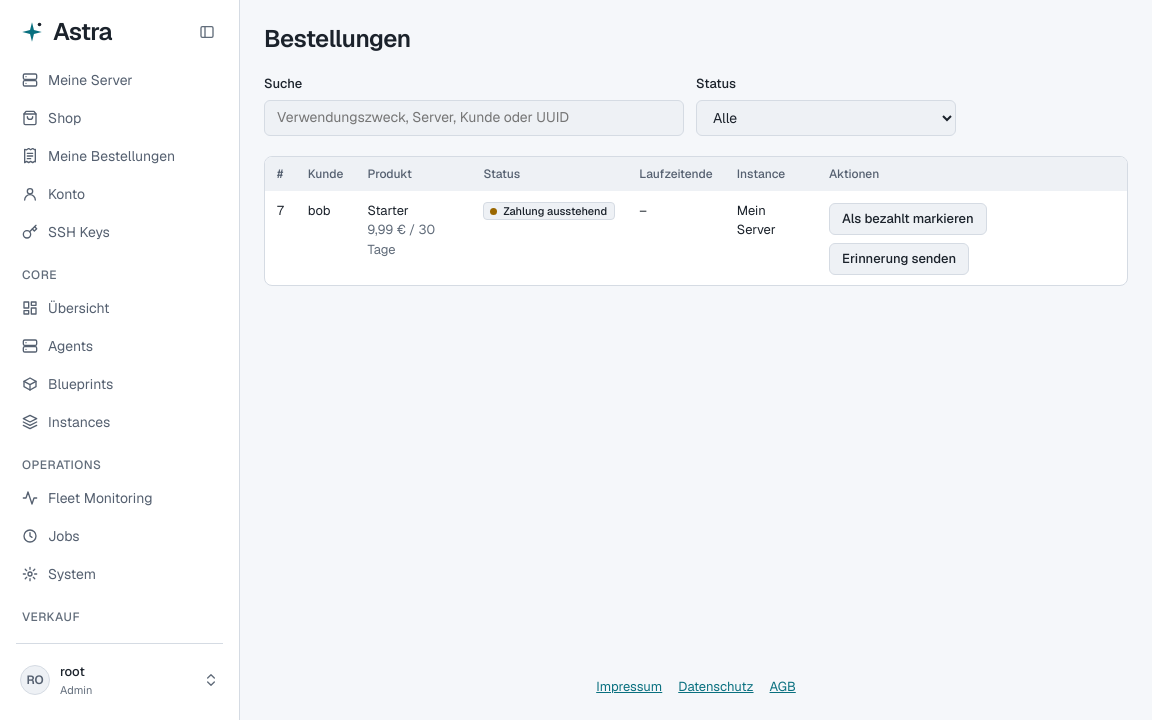
Scenario: AdminOrdersPage › warnt, wenn nach der Zahlung weiter kein Platz frei ist
Click the button "Als bezahlt markieren": point(908, 218) top-left (829, 202), bottom-right (987, 234)
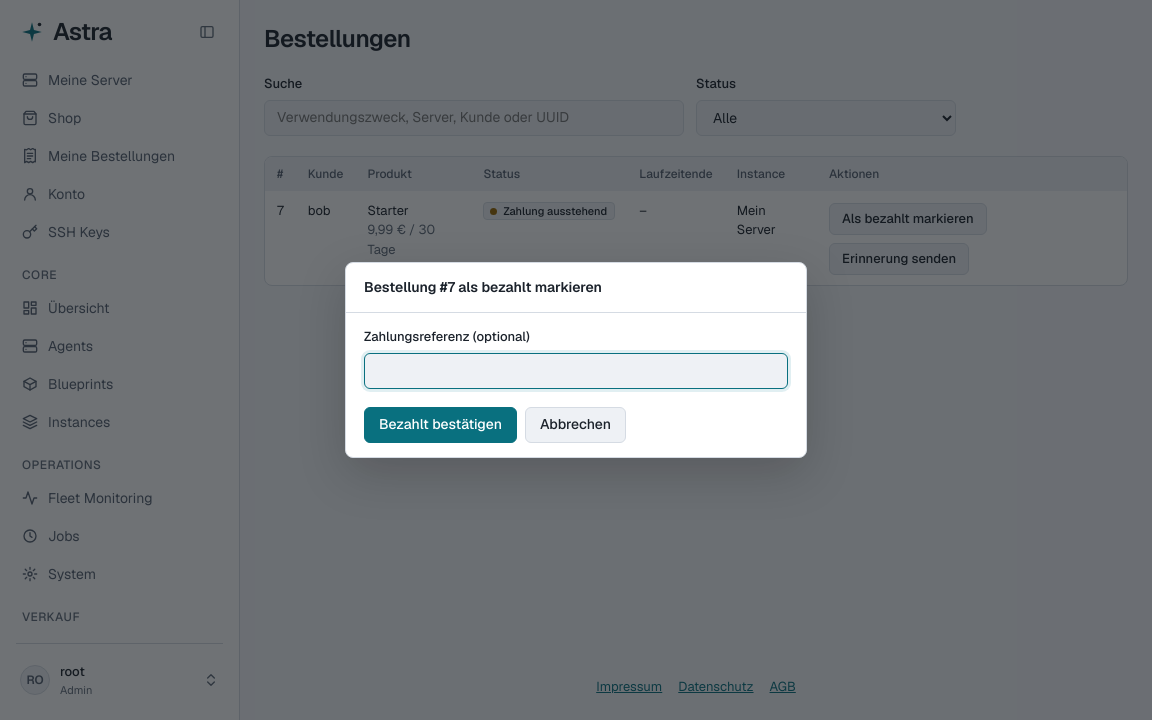
Click the button "Bezahlt bestätigen": point(440, 425) top-left (364, 407), bottom-right (517, 443)
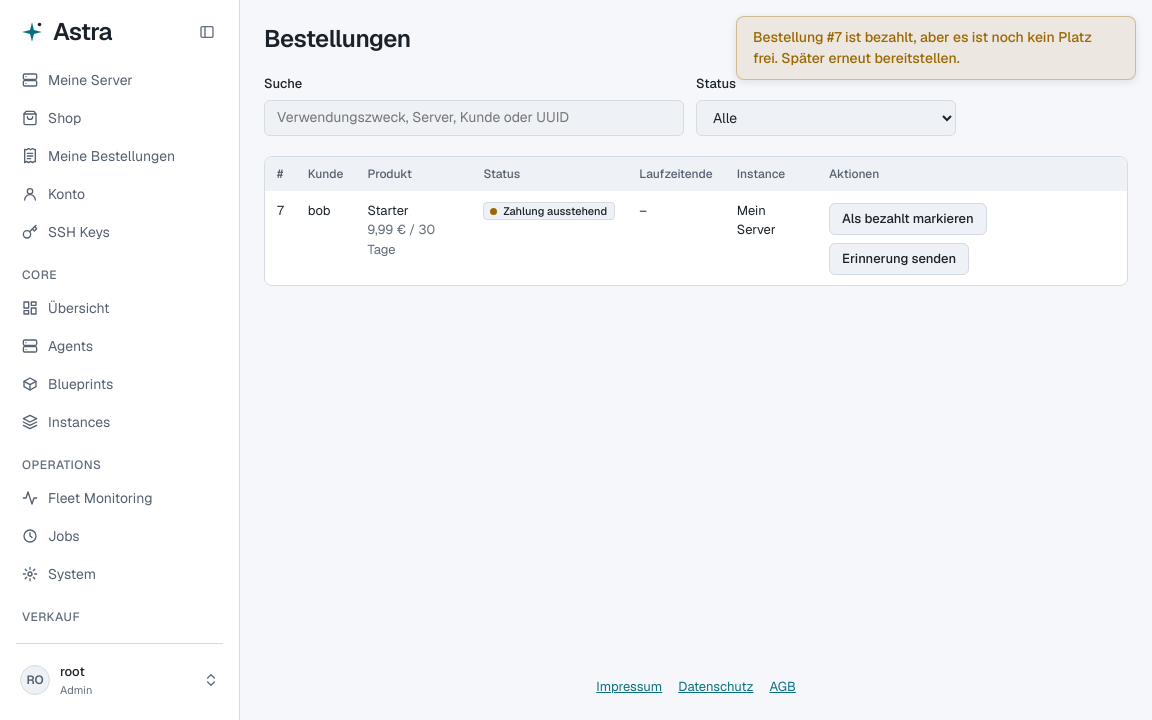
Expected: the text "noch kein Platz frei" is shown, top-left (753, 28), bottom-right (1092, 67)
